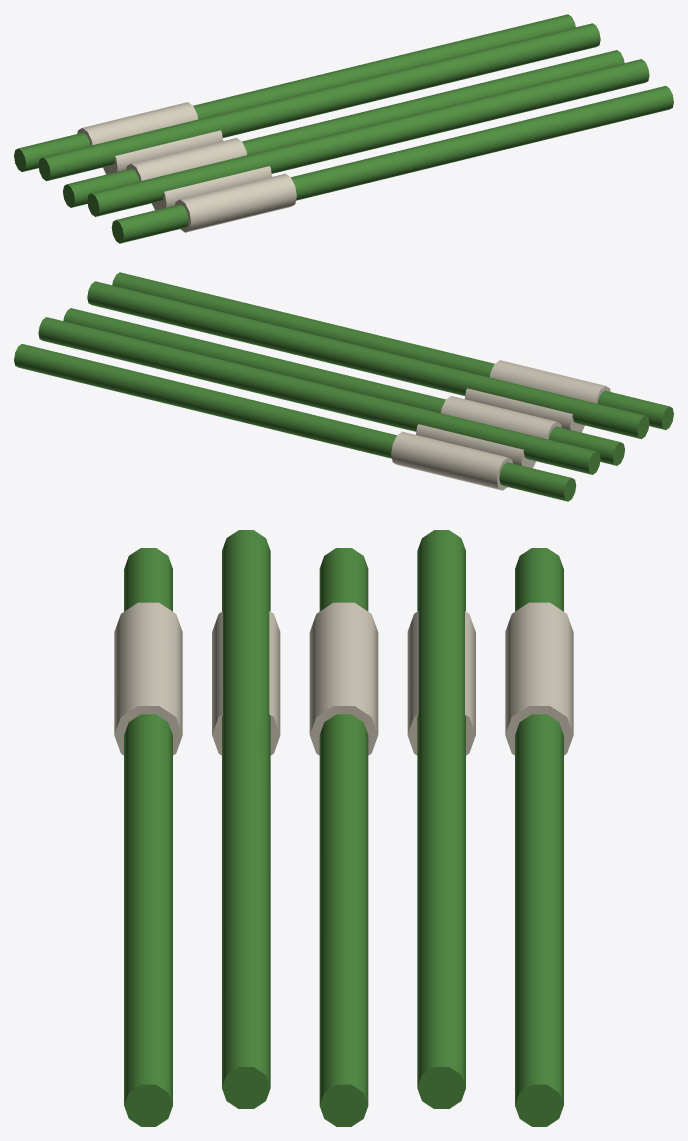
Rendered from hanh_la.glb.
The picture shows the model from 3 angles, top to bottom: view 1: azimuth 30°, elevation 25°; view 2: azimuth 150°, elevation 25°; view 3: azimuth 270°, elevation 25°; orthographic projection. The views are drawn at different scales.
Parts seen in each view (by area): view 1: hanh_la; view 2: hanh_la; view 3: hanh_la.
Part boxes in pixels (box(x1,y1,x2,y2)): hanh_la: box(14, 14, 673, 243); hanh_la: box(14, 272, 673, 501); hanh_la: box(114, 530, 573, 1126).
Bounding box in the file's own units: 0.26 × 0.0154 × 0.094.
